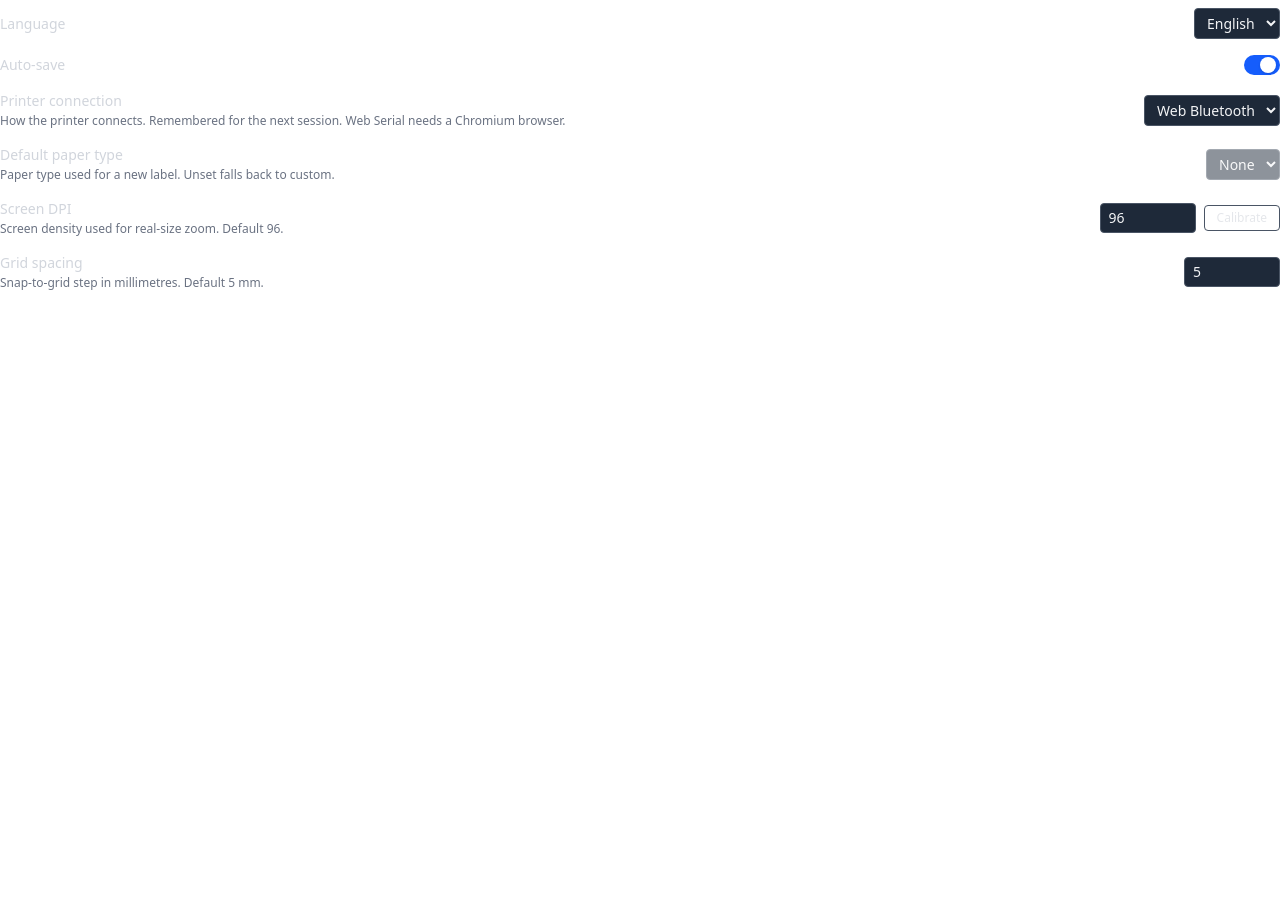
GeneralSection calibration dialog (P7 #11) › keeps the dialog unmounted until Calibrate is pressed
Expected: the text "Screen DPI calibration" is not shown
Click the button "Calibrate" at coordinates (1242, 218), box [1204,205,1279,231]
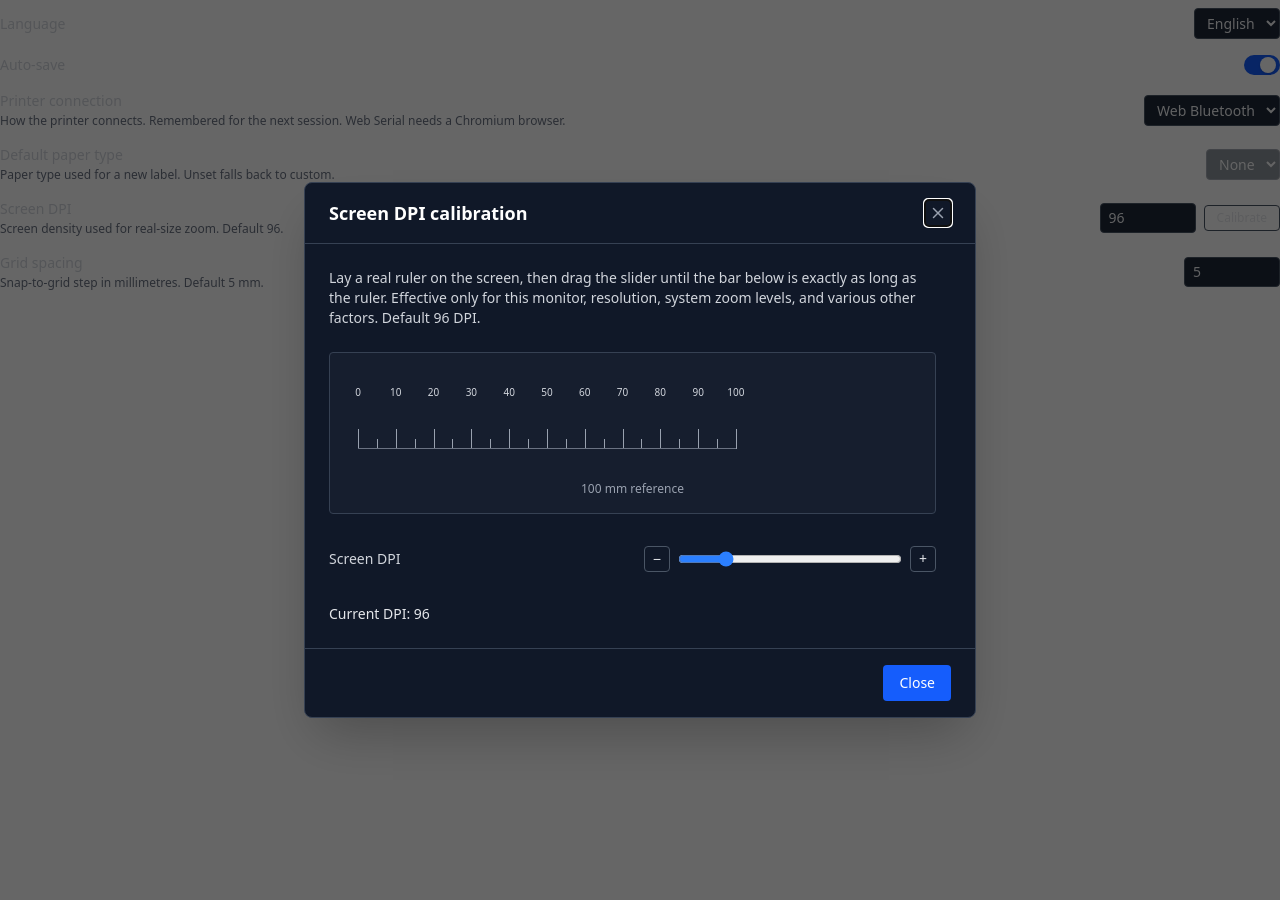
Expected: the heading "Screen DPI calibration" is shown, [329,199,528,227]
Expected: the picture with test id "calibration-ruler" is shown, [355,385,744,399]
